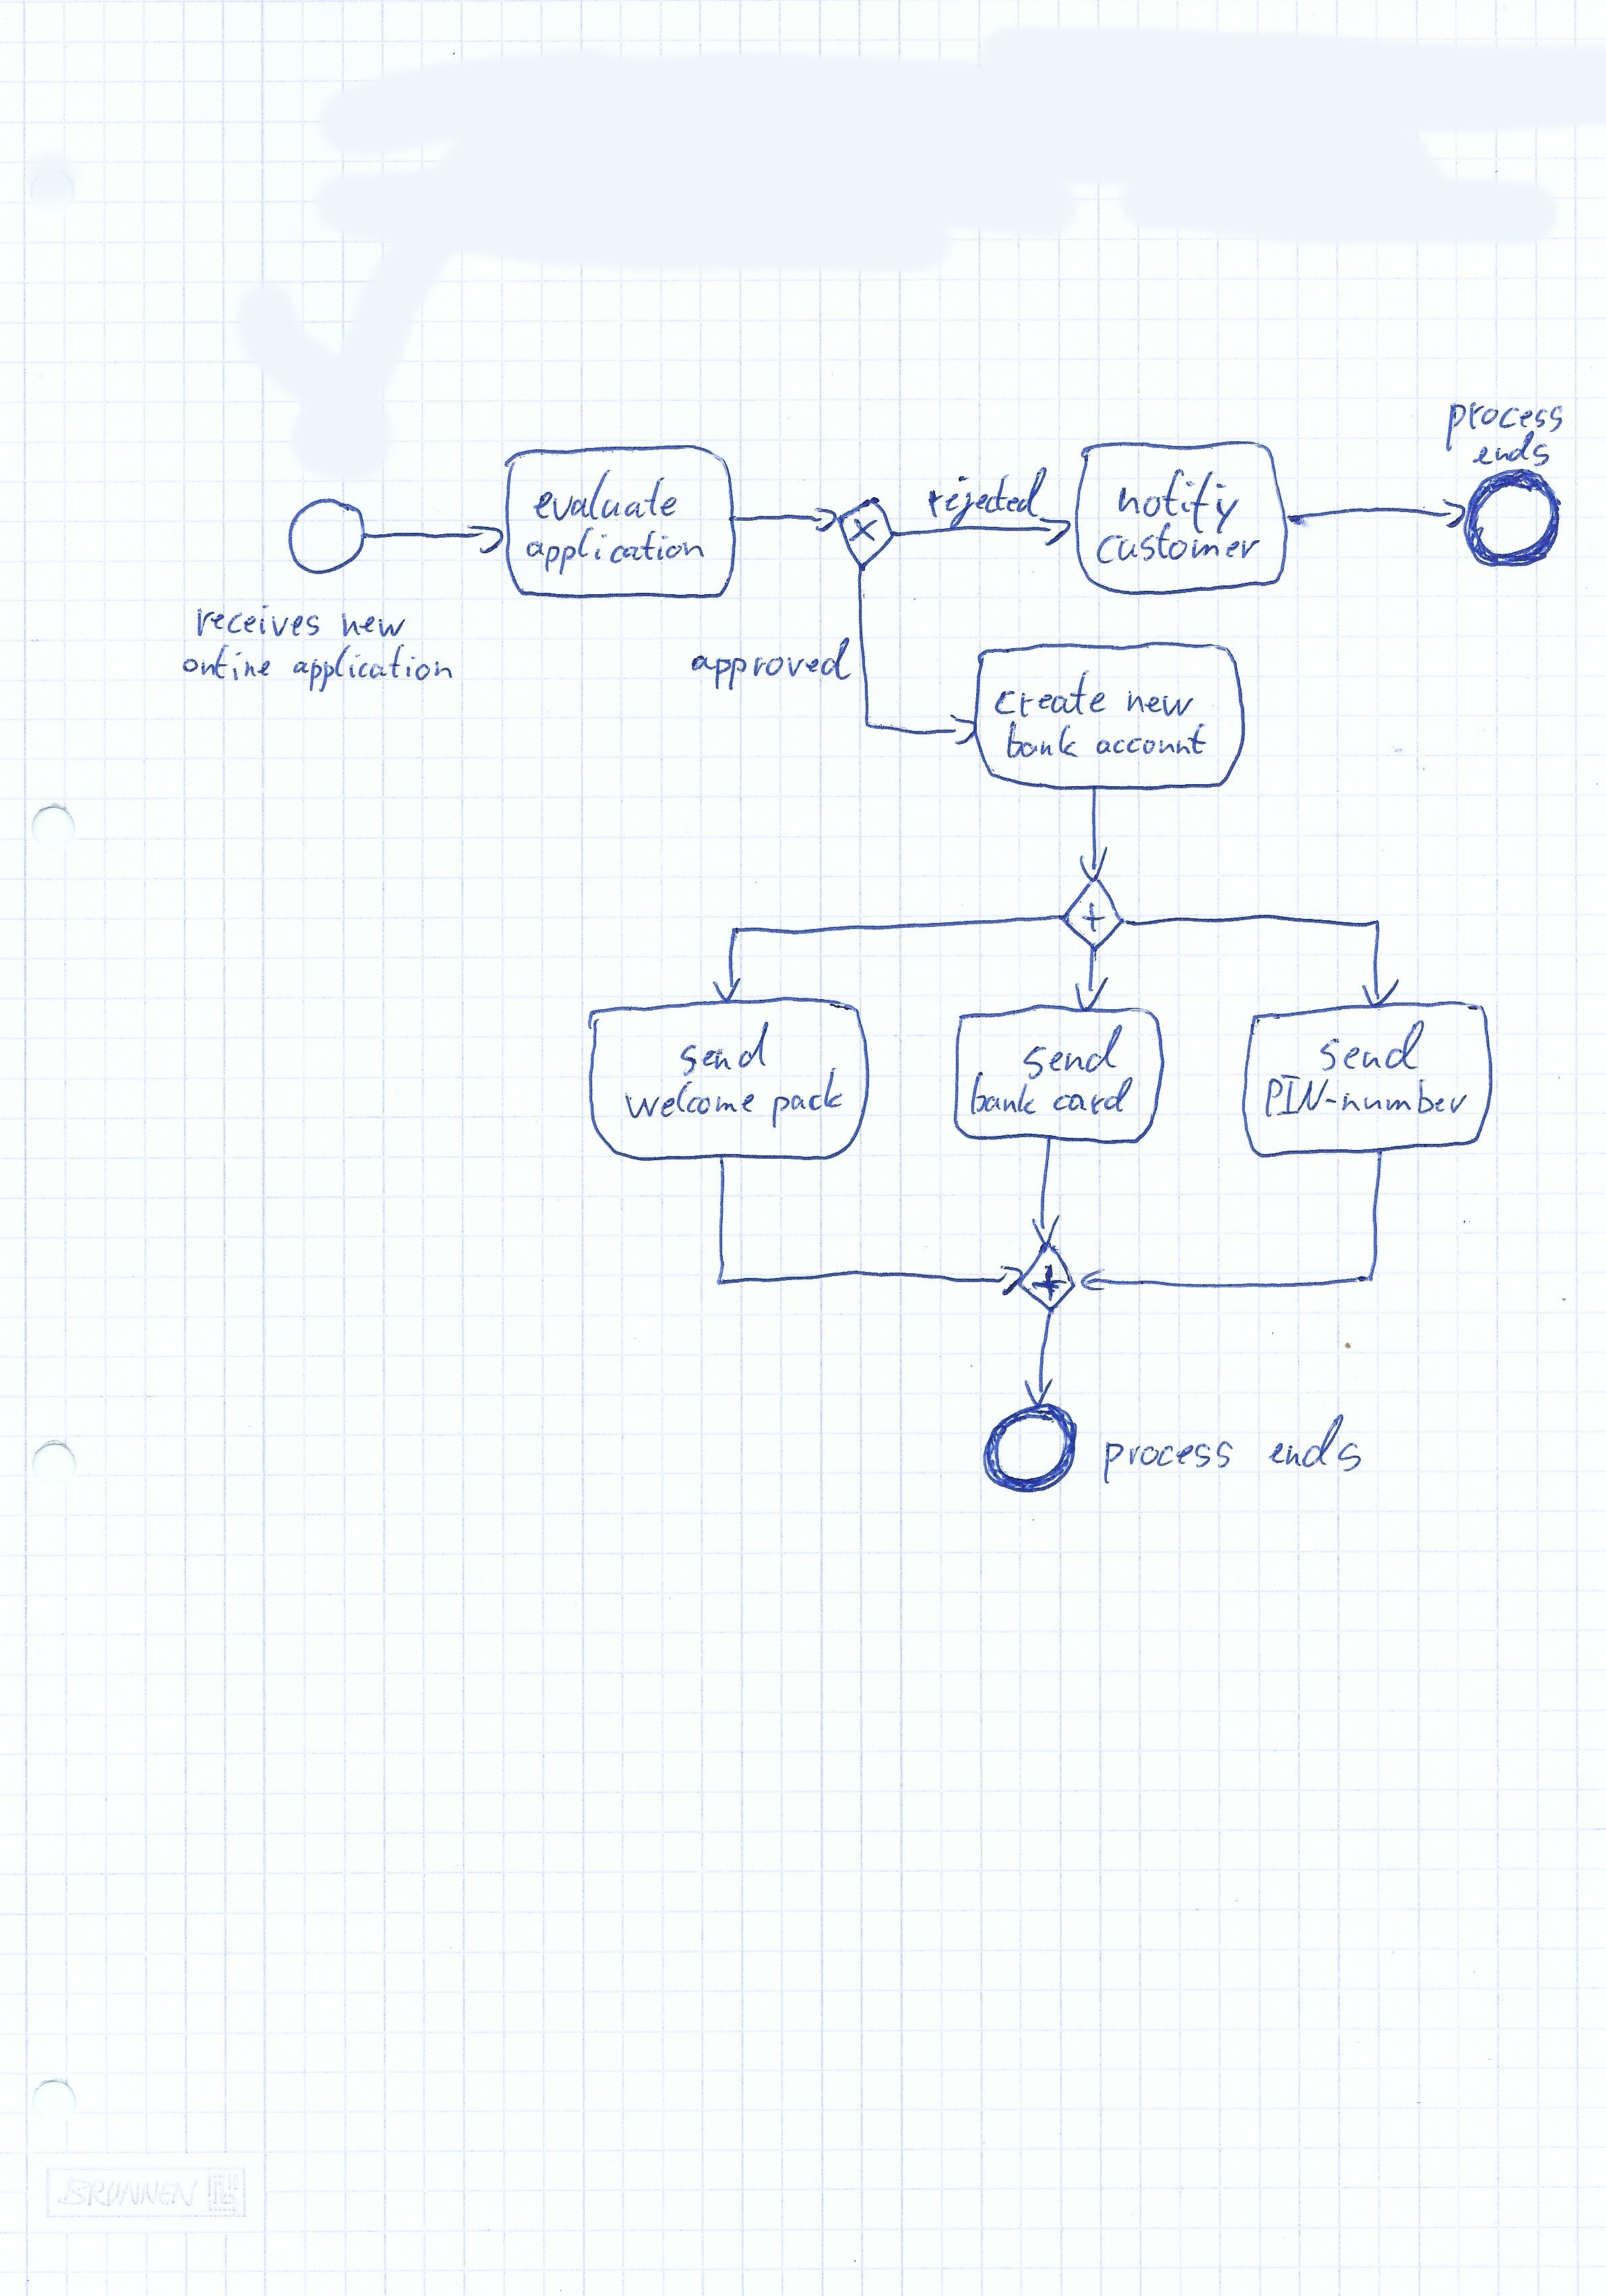PIN-: (1262, 1073, 1339, 1120)
account: (1092, 721, 1210, 762)
application: (291, 639, 457, 696), (523, 525, 708, 574)
approved: (689, 633, 856, 687)
bank: (970, 1073, 1045, 1120), (1003, 722, 1085, 762)
card: (1050, 1078, 1135, 1120)
create: (996, 666, 1119, 721)
customer: (1095, 523, 1264, 569)
ends: (1266, 1411, 1367, 1476), (1470, 433, 1555, 471)
evaluate: (530, 468, 685, 525)
new: (1118, 675, 1196, 721), (337, 600, 410, 646)
notify: (1116, 464, 1243, 534)
number: (1337, 1078, 1472, 1118)
online: (180, 642, 284, 686)
pack: (771, 1066, 847, 1131)
process: (1102, 1432, 1250, 1485), (1440, 394, 1573, 440)
receives: (192, 598, 337, 642)
rejected: (917, 462, 1055, 529)
send: (675, 1017, 776, 1082), (1318, 1017, 1432, 1075), (1020, 1026, 1132, 1080)
welcome: (621, 1078, 762, 1124)
